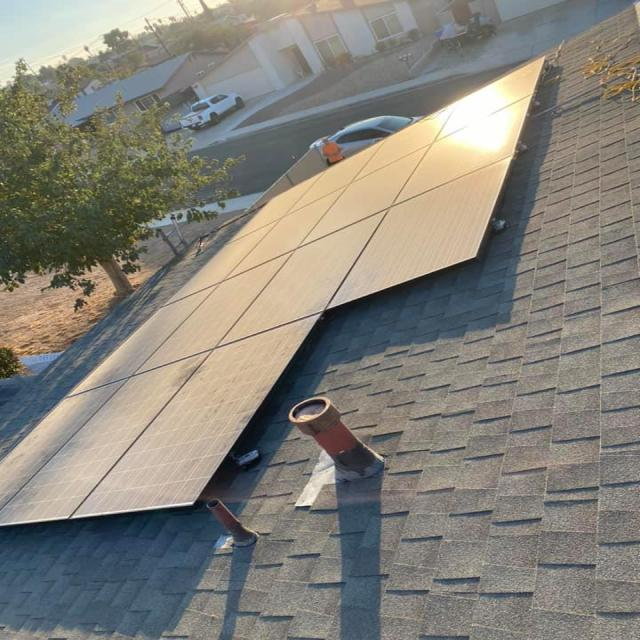dust-solar-panel: (0, 51, 550, 529)
